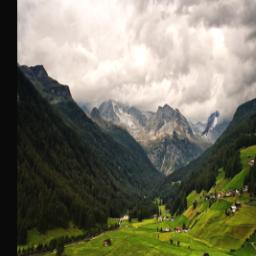Swallow: (200, 112, 219, 140)
